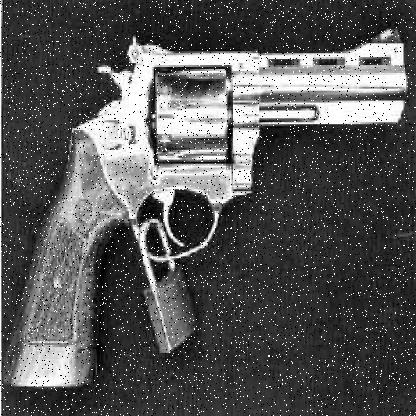pistol: (1, 26, 407, 389)
